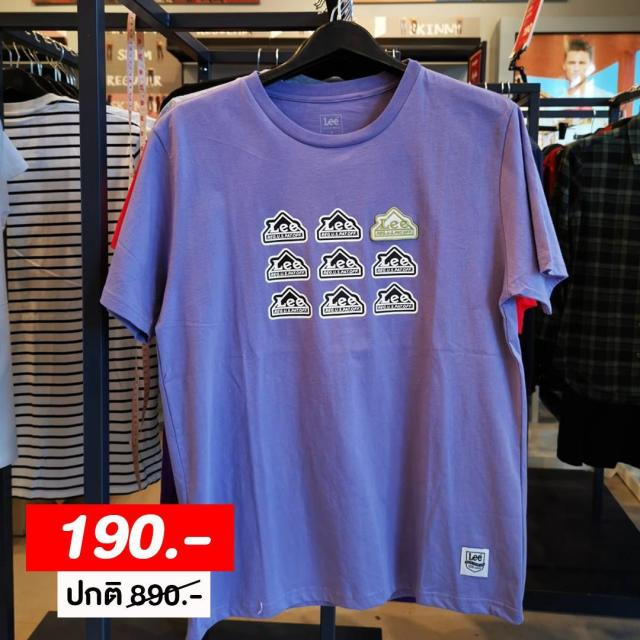Tshirt: (107, 70, 566, 604)
